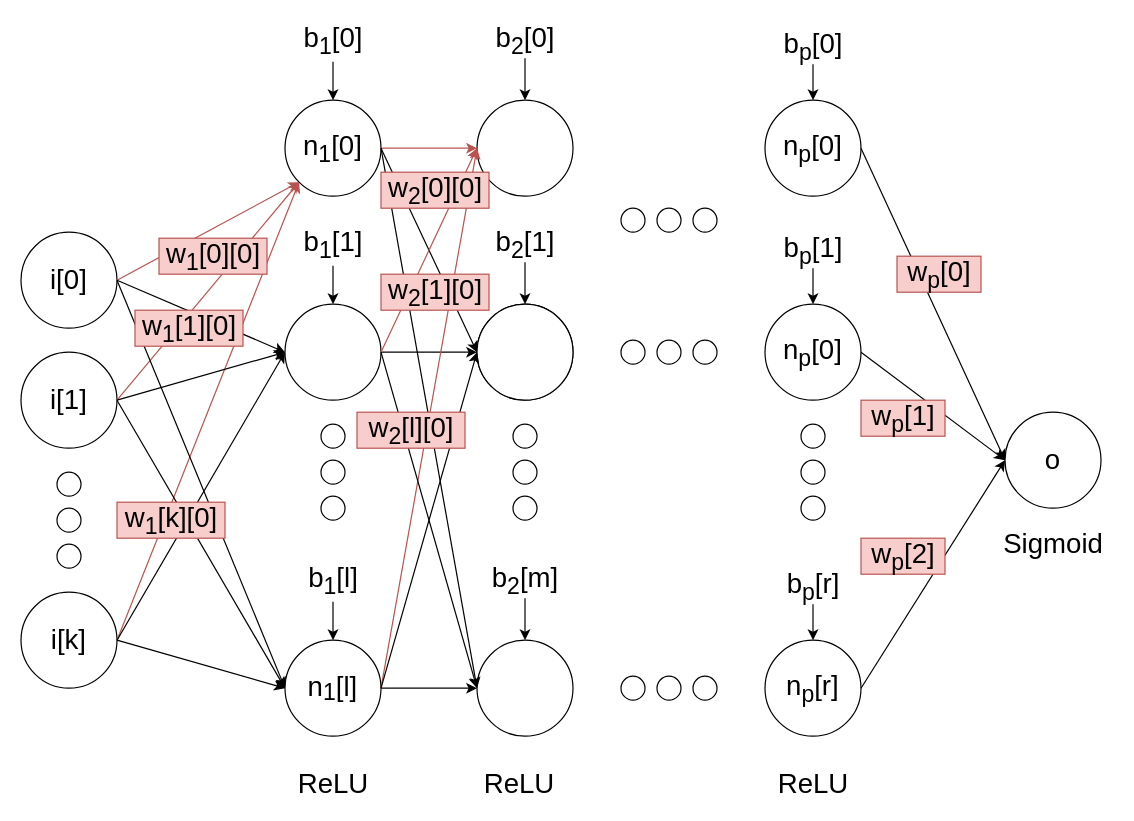
The diagram is 1134 pixels wide and 821 high, and some of its shapes have lost their labels. The shapes that lost their labels are listed below. From the top down, each one's box as (x1, y1, x2, y2) in pixels, then its label:
(476, 99, 573, 196): n 2 [0]
(284, 303, 381, 400): n 1 [1]
(476, 303, 573, 400): n 2 [1]
(476, 639, 573, 736): n 2 [m]
